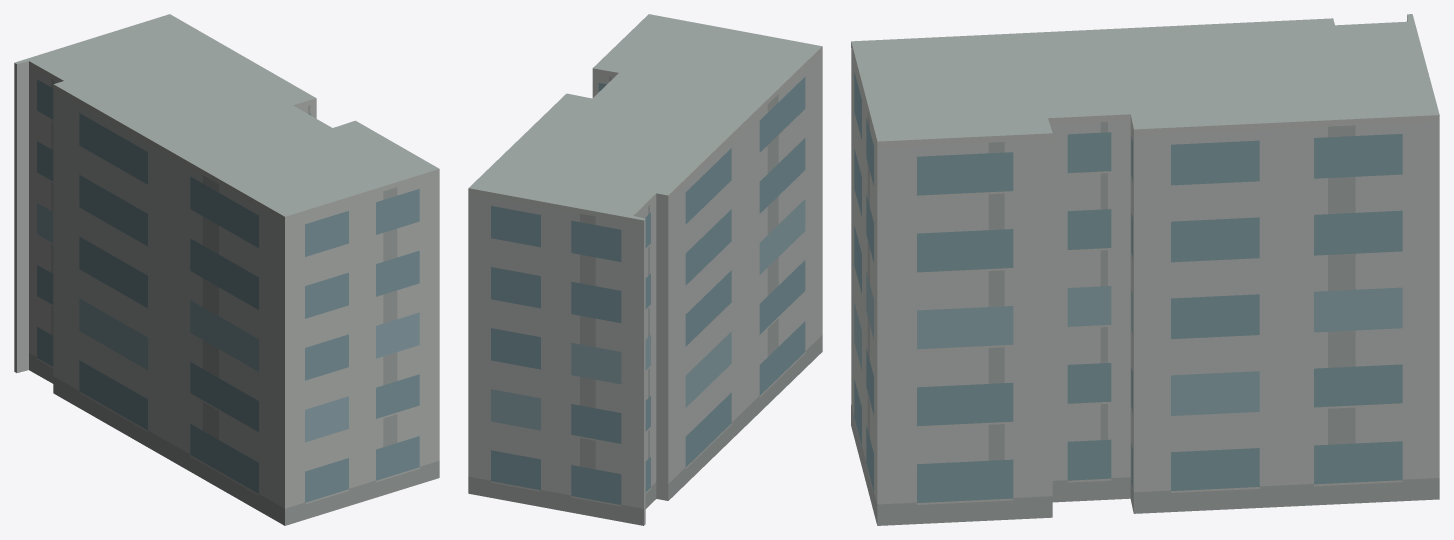
The model's file is survey-upis-32890234.glb.
The picture shows the model from 3 angles, left to right: view 1: azimuth 30°, elevation 25°; view 2: azimuth 150°, elevation 25°; view 3: azimuth 270°, elevation 25°; orthographic projection. The views are drawn at different scales.
Visible parts, largest first — view 1: survey-upis-32890234.tmp; view 2: survey-upis-32890234.tmp; view 3: survey-upis-32890234.tmp.
Part boxes in pixels (box(x1,y1,x2,y2)): survey-upis-32890234.tmp: box(14, 14, 439, 525); survey-upis-32890234.tmp: box(468, 14, 822, 525); survey-upis-32890234.tmp: box(851, 14, 1439, 525).
Bounding box in the file's own units: 10.54 × 14.8 × 20.55.
